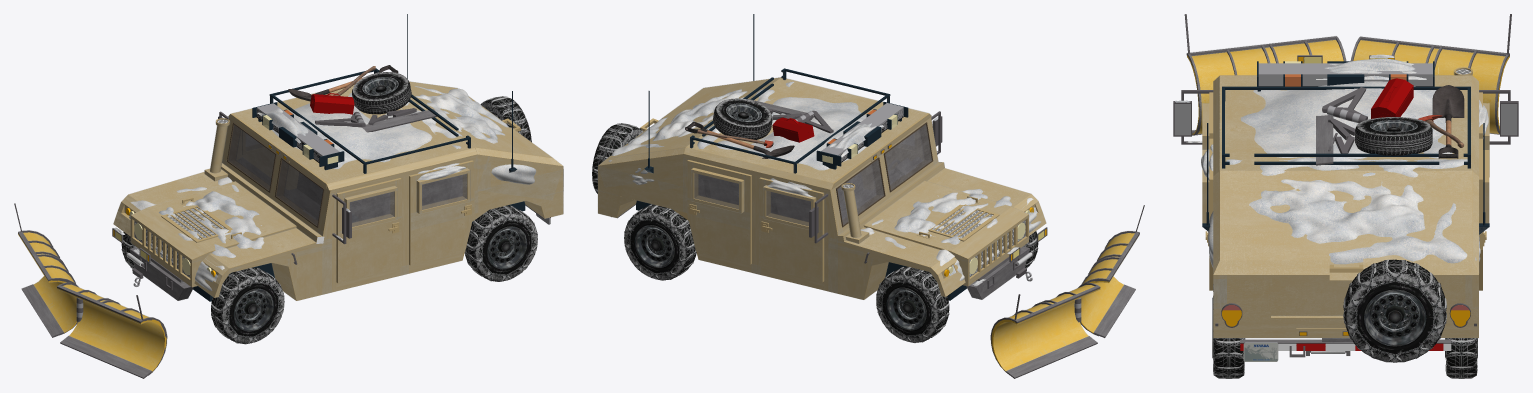
The model's file is SnowplowHumvee.glb.
3 views of the same model, side by side, from view 1: azimuth 30°, elevation 25°; view 2: azimuth 150°, elevation 25°; view 3: azimuth 270°, elevation 25° (orthographic). The views are drawn at different scales.
Visible parts, largest first — view 1: SnowplowHumvee; view 2: SnowplowHumvee; view 3: SnowplowHumvee.
Part boxes in pixels (left/top/right/bottom): SnowplowHumvee: left=14, top=14, right=563, bottom=378; SnowplowHumvee: left=592, top=14, right=1144, bottom=378; SnowplowHumvee: left=1173, top=14, right=1518, bottom=378.
Bounding box in the file's own units: 24.71 × 9.47 × 11.7.
Materials: 29 (11 with a texture image).
